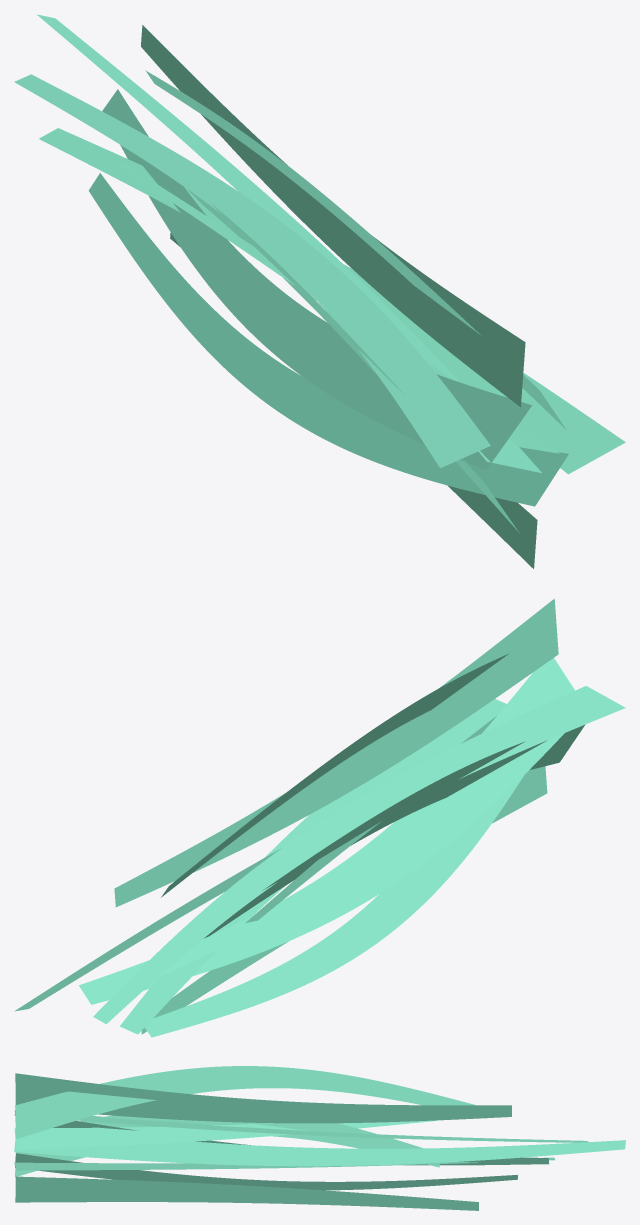
File: kelp-grove-01.glb
3 renders of one model, top to bottom at view 1: azimuth 30°, elevation 25°; view 2: azimuth 150°, elevation 25°; view 3: azimuth 270°, elevation 25°, orthographic. The views are drawn at different scales.
Parts seen in each view (by area): view 1: kelp-grove-01; view 2: kelp-grove-01; view 3: kelp-grove-01.
Boxes of the visible parts, x1,y1,x2,y2 form: kelp-grove-01: (14,14,625,568); kelp-grove-01: (14,598,625,1037); kelp-grove-01: (14,1066,625,1210).
Size of the model in its own units: 1.65 by 2.03 by 8.5.
